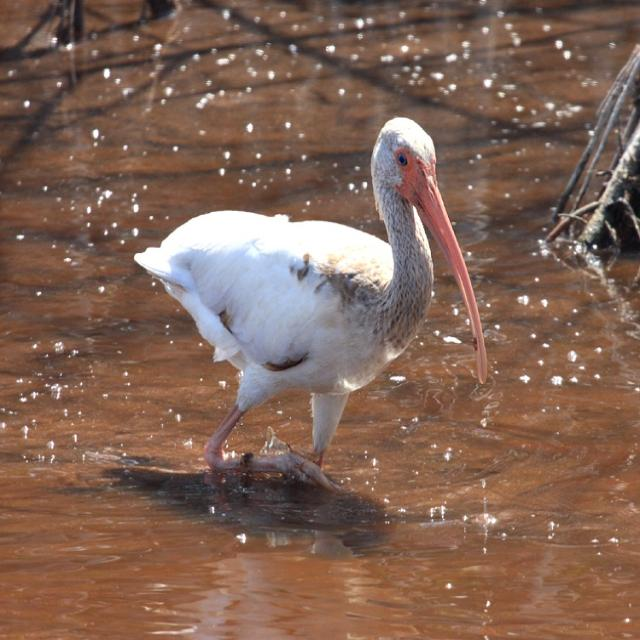bird: (127, 113, 497, 482)
